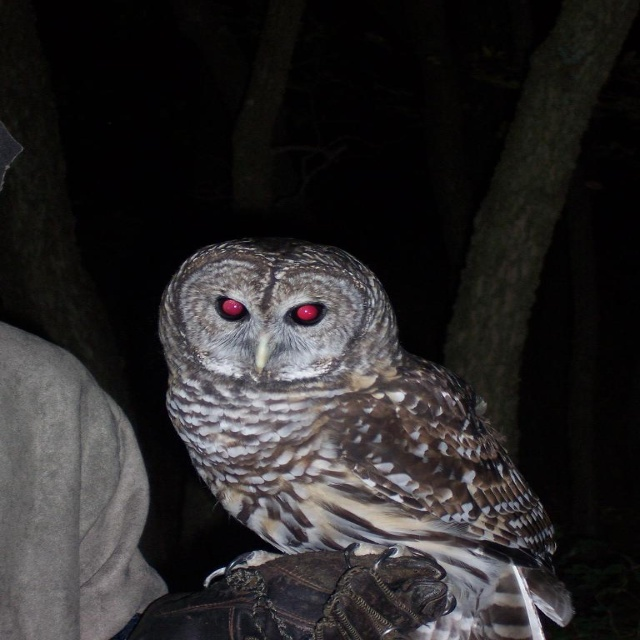Owl: (159, 236, 577, 639)
